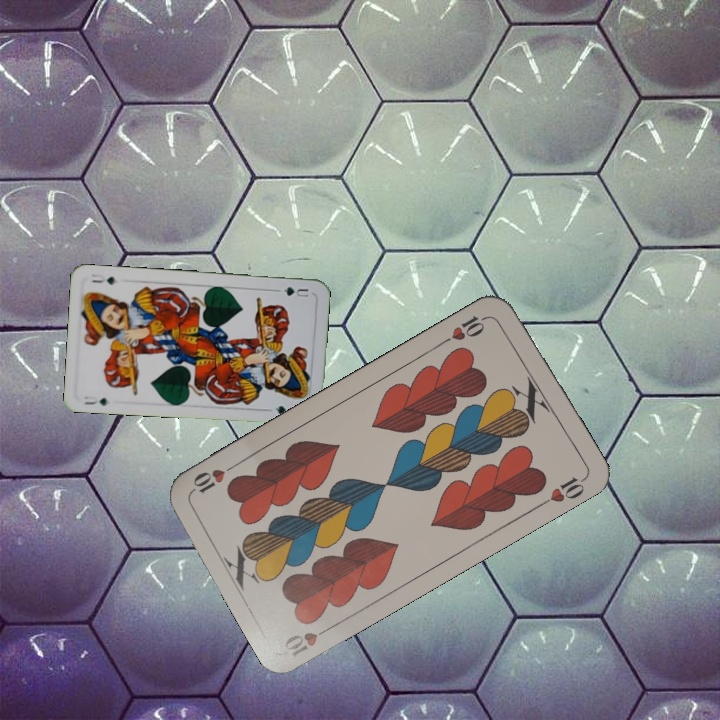GU: (273, 283, 311, 300), (80, 392, 110, 408)
H10: (280, 620, 337, 660), (438, 311, 492, 346)
